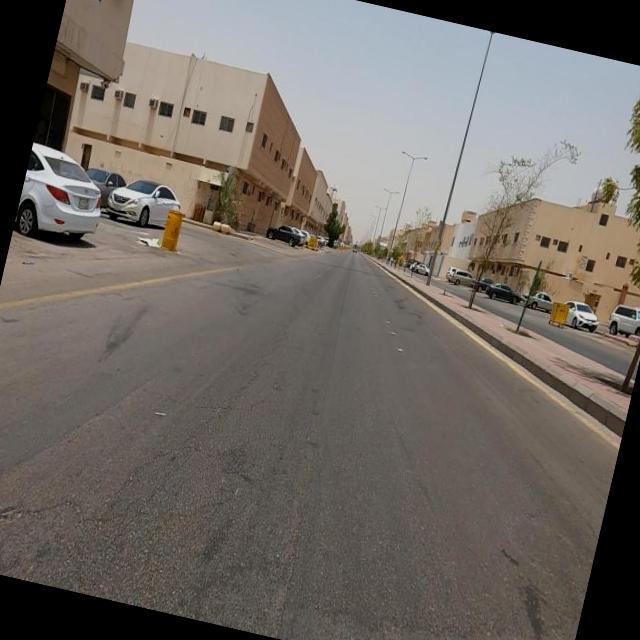debris: (109, 196, 190, 290)
